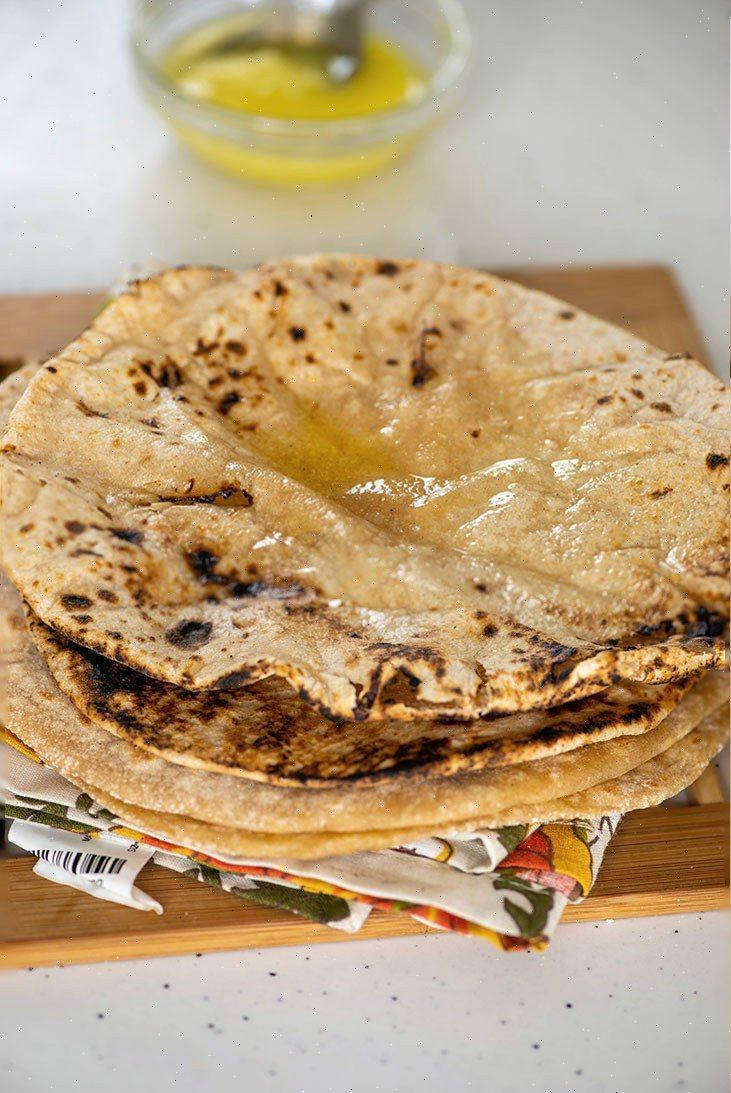roti phulka: (0, 242, 731, 863)
